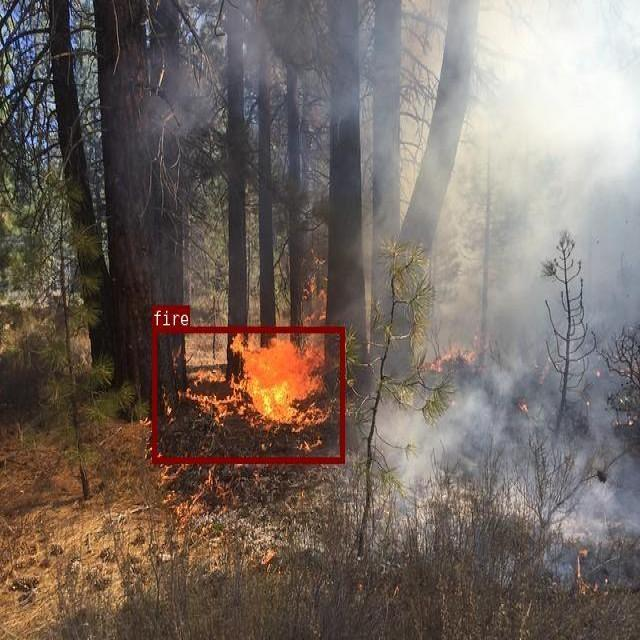fire: (152, 326, 344, 462)
